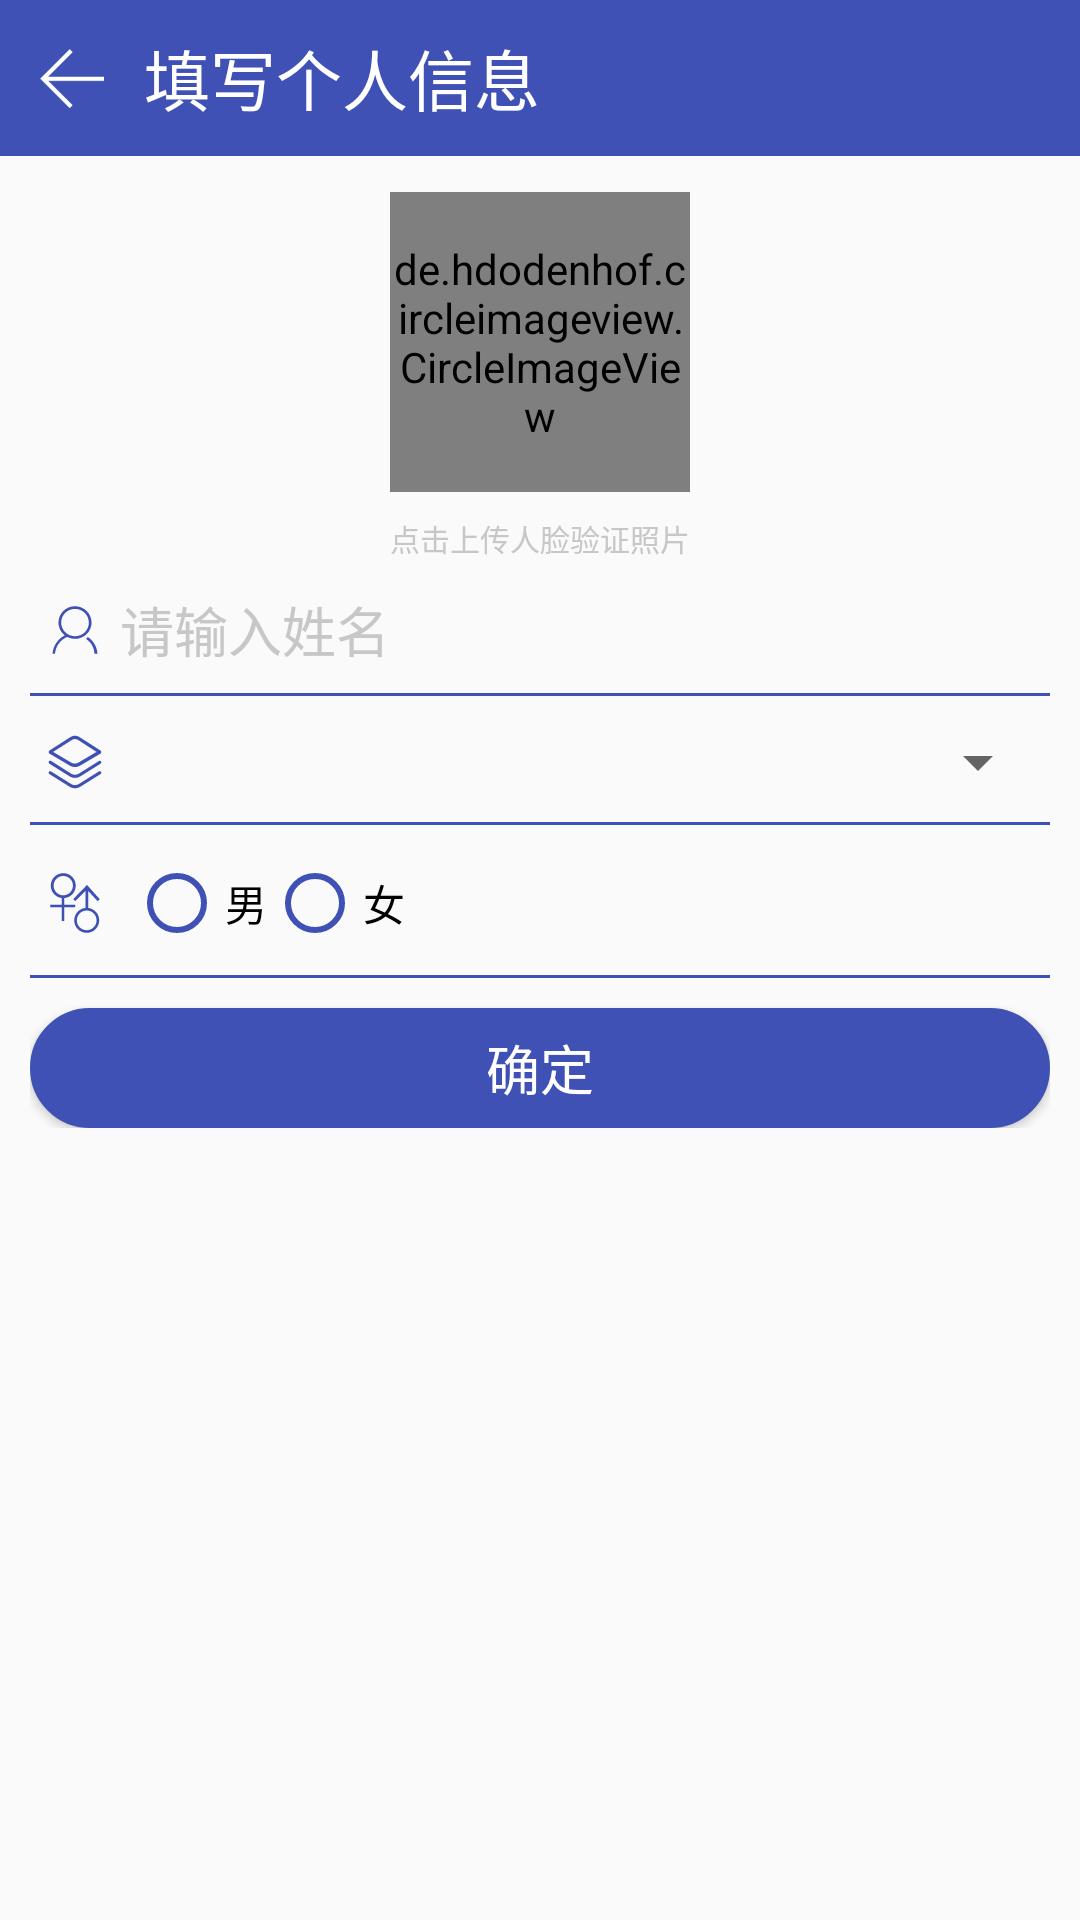

Point at icon controls on the screen. Image size 1080 x 1920, points as [x,y].
back: [72,78]
sex: [75,903]
